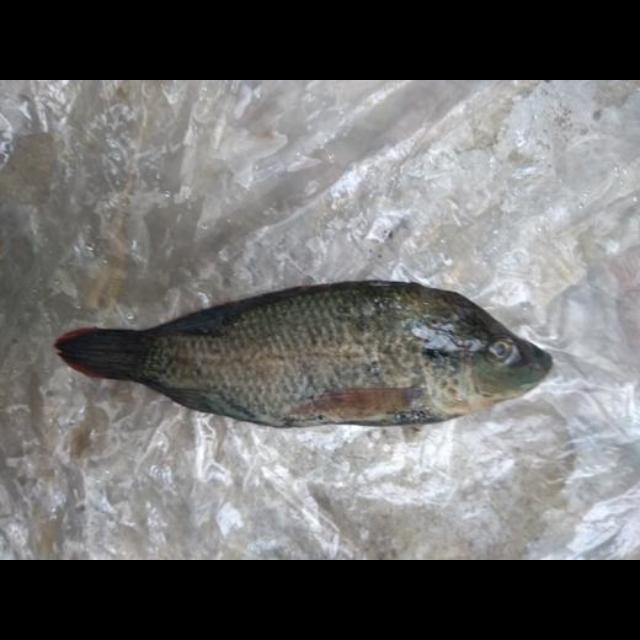Tilapia: (58, 280, 546, 430)
